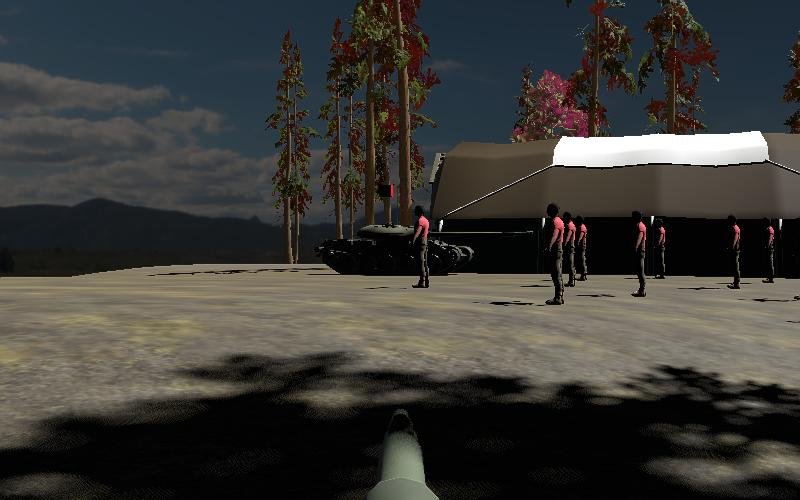Human: (545, 200, 564, 307), (409, 203, 432, 289), (629, 209, 649, 300), (725, 212, 744, 290), (562, 210, 579, 286), (761, 215, 779, 284), (575, 213, 591, 283), (653, 216, 670, 281)
Tank: (311, 217, 536, 278)
